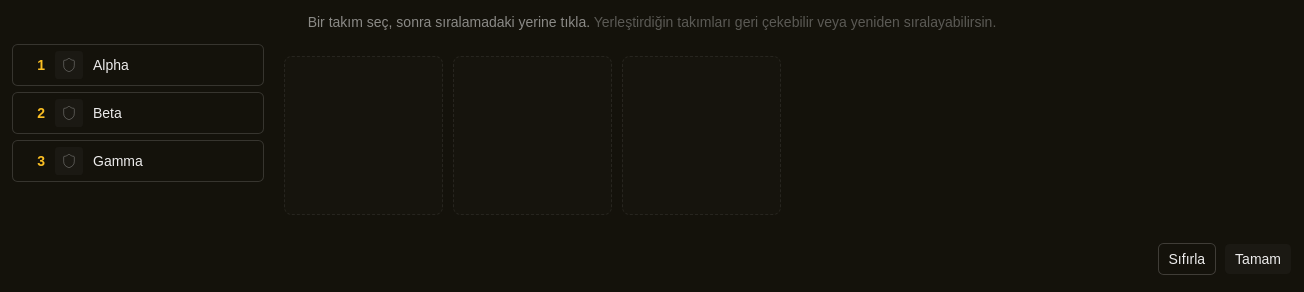
Test: TeamRanker › reset clears the ranking and disables submit
The image size is (1304, 292).
Check: the button "Tamam" is enabled, box [1224, 243, 1292, 275]
Click the button "Sıfırla" at (1187, 259), box [1158, 243, 1216, 275]
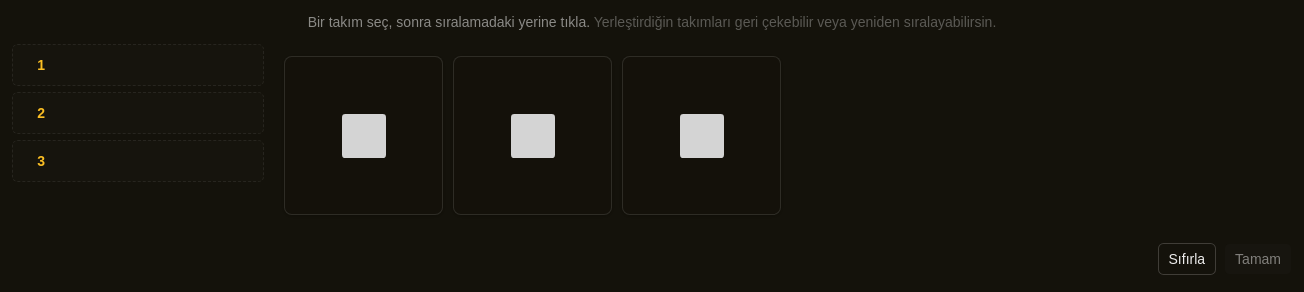
Check: the button "Tamam" is disabled, box [1224, 243, 1292, 275]
